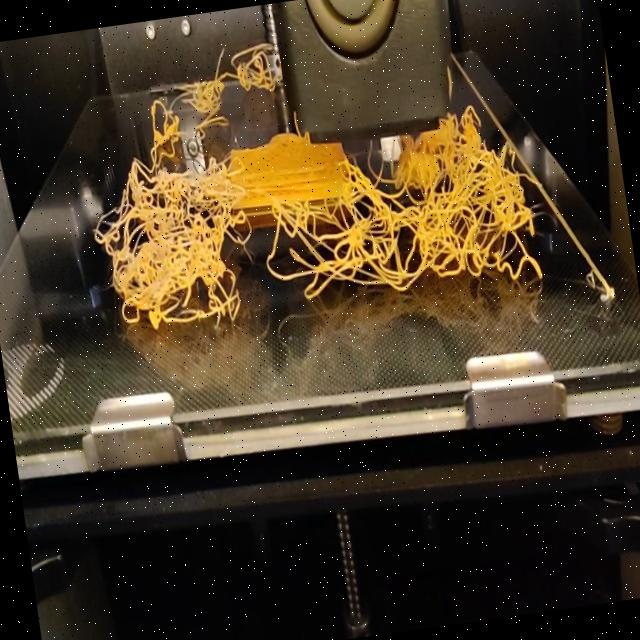spaghetti: (82, 97, 547, 348), (135, 28, 285, 149)
